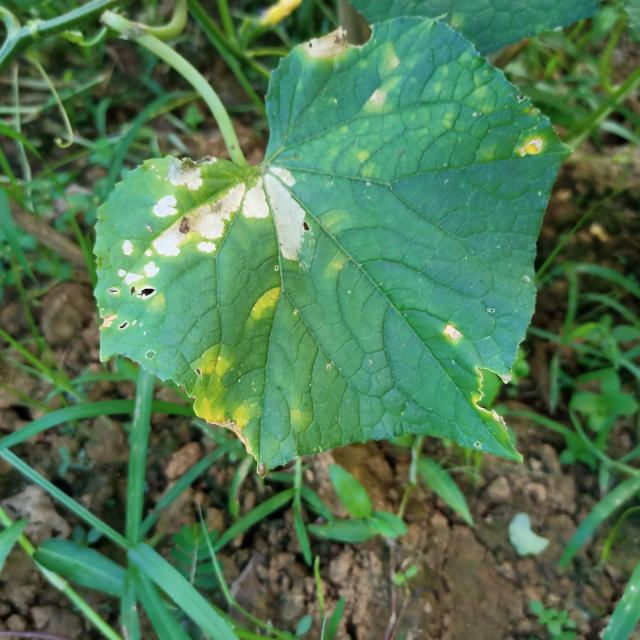disease_cucumber: (103, 156, 310, 298), (350, 46, 413, 149), (192, 341, 261, 428), (243, 284, 286, 325)
